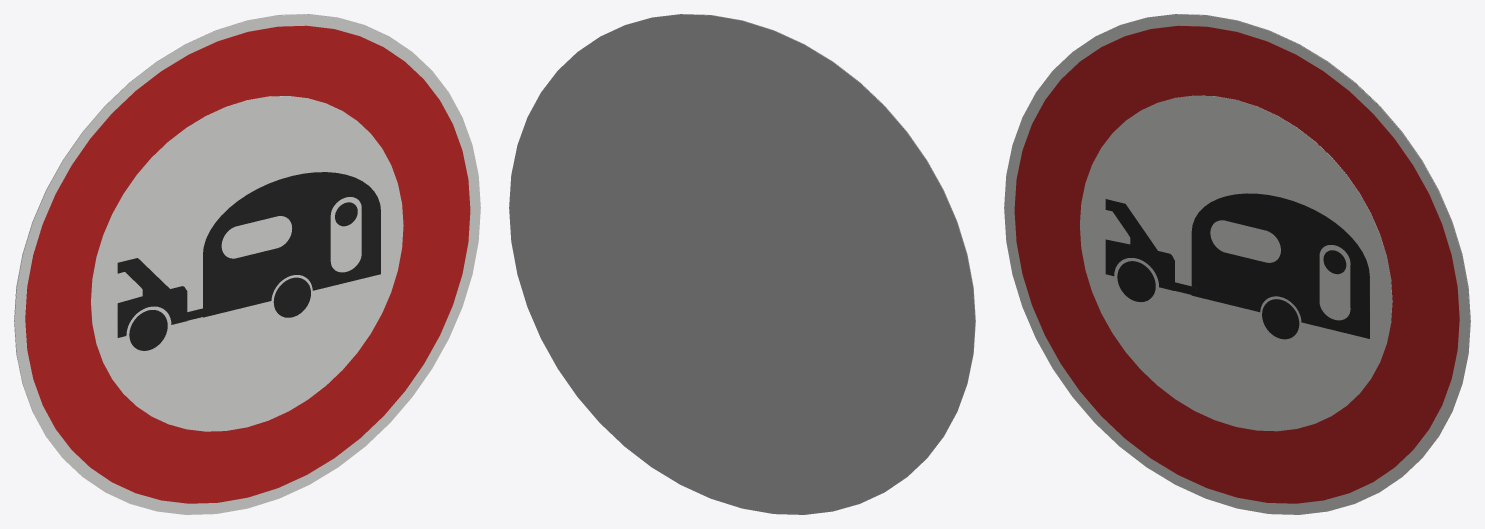
3 views of the same model, side by side, from view 1: azimuth 30°, elevation 25°; view 2: azimuth 150°, elevation 25°; view 3: azimuth 330°, elevation 25° (orthographic).
Parts seen in each view (by area): view 1: B9i_p01, B9i_p02, B9i_p00, B9i_p03, B9i_p07, B9i_p06, B9i_p05, B9i_dos; view 2: B9i_dos, B9i_p00; view 3: B9i_p01, B9i_p02, B9i_p00, B9i_p03, B9i_p07, B9i_p06, B9i_p05, B9i_dos.
Boxes of the visible parts, x1=… form: B9i_p01: x1=25, y1=25, x2=470, y2=503; B9i_p02: x1=90, y1=96, x2=403, y2=431; B9i_p00: x1=14, y1=14, x2=480, y2=514; B9i_p03: x1=203, y1=172, x2=380, y2=317; B9i_p07: x1=117, y1=258, x2=187, y2=337; B9i_p06: x1=129, y1=310, x2=167, y2=350; B9i_p05: x1=273, y1=277, x2=310, y2=317; B9i_dos: x1=14, y1=14, x2=385, y2=473; B9i_dos: x1=509, y1=14, x2=975, y2=514; B9i_p00: x1=604, y1=14, x2=975, y2=473; B9i_p01: x1=1014, y1=25, x2=1459, y2=503; B9i_p02: x1=1080, y1=95, x2=1392, y2=431; B9i_p00: x1=1004, y1=14, x2=1470, y2=514; B9i_p03: x1=1191, y1=193, x2=1369, y2=338; B9i_p07: x1=1105, y1=199, x2=1174, y2=290; B9i_p06: x1=1117, y1=261, x2=1155, y2=302; B9i_p05: x1=1262, y1=299, x2=1299, y2=339; B9i_dos: x1=1099, y1=14, x2=1470, y2=473.
Size of the model in its own units: 0.85 by 0.8498 by 0.0051.
